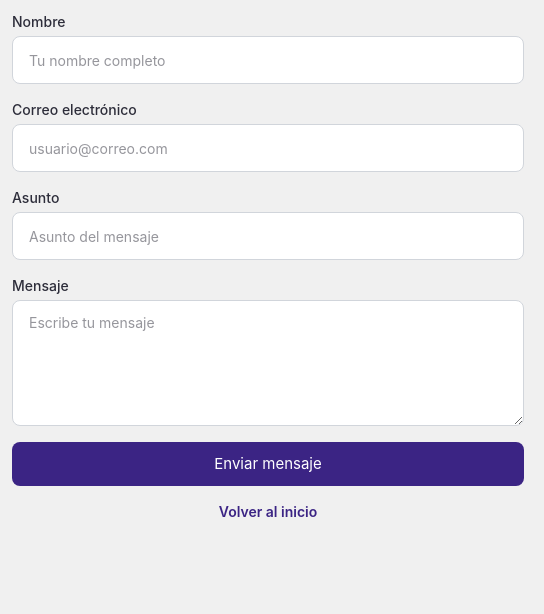
it: FormularioContacto › valida campos obligatorios con Zod
Click the button "Enviar mensaje" at [268, 464], box [12,442,524,486]
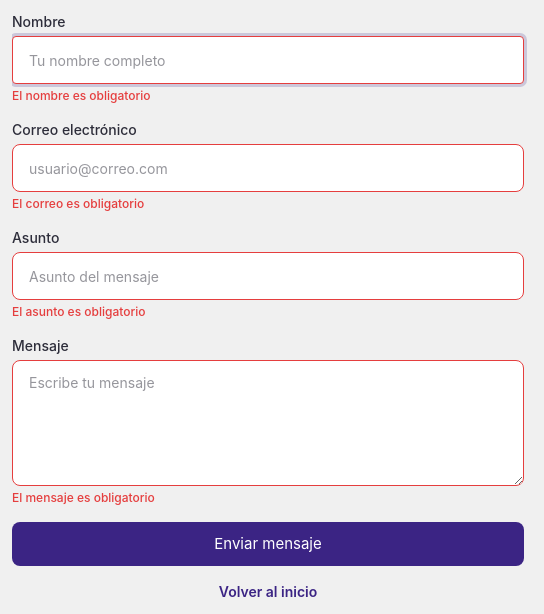
Expected: the text "El nombre es obligatorio" is shown, [12,88,151,103]
